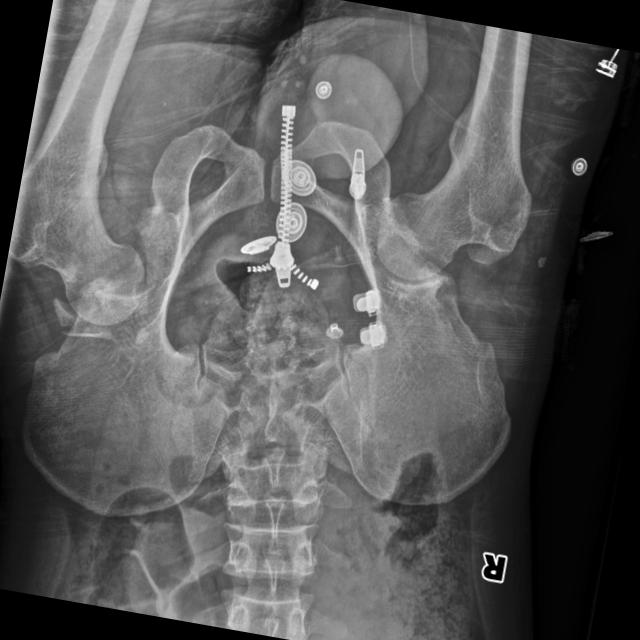normal-left: (7, 18, 143, 324)
normal-right: (376, 24, 531, 279)
